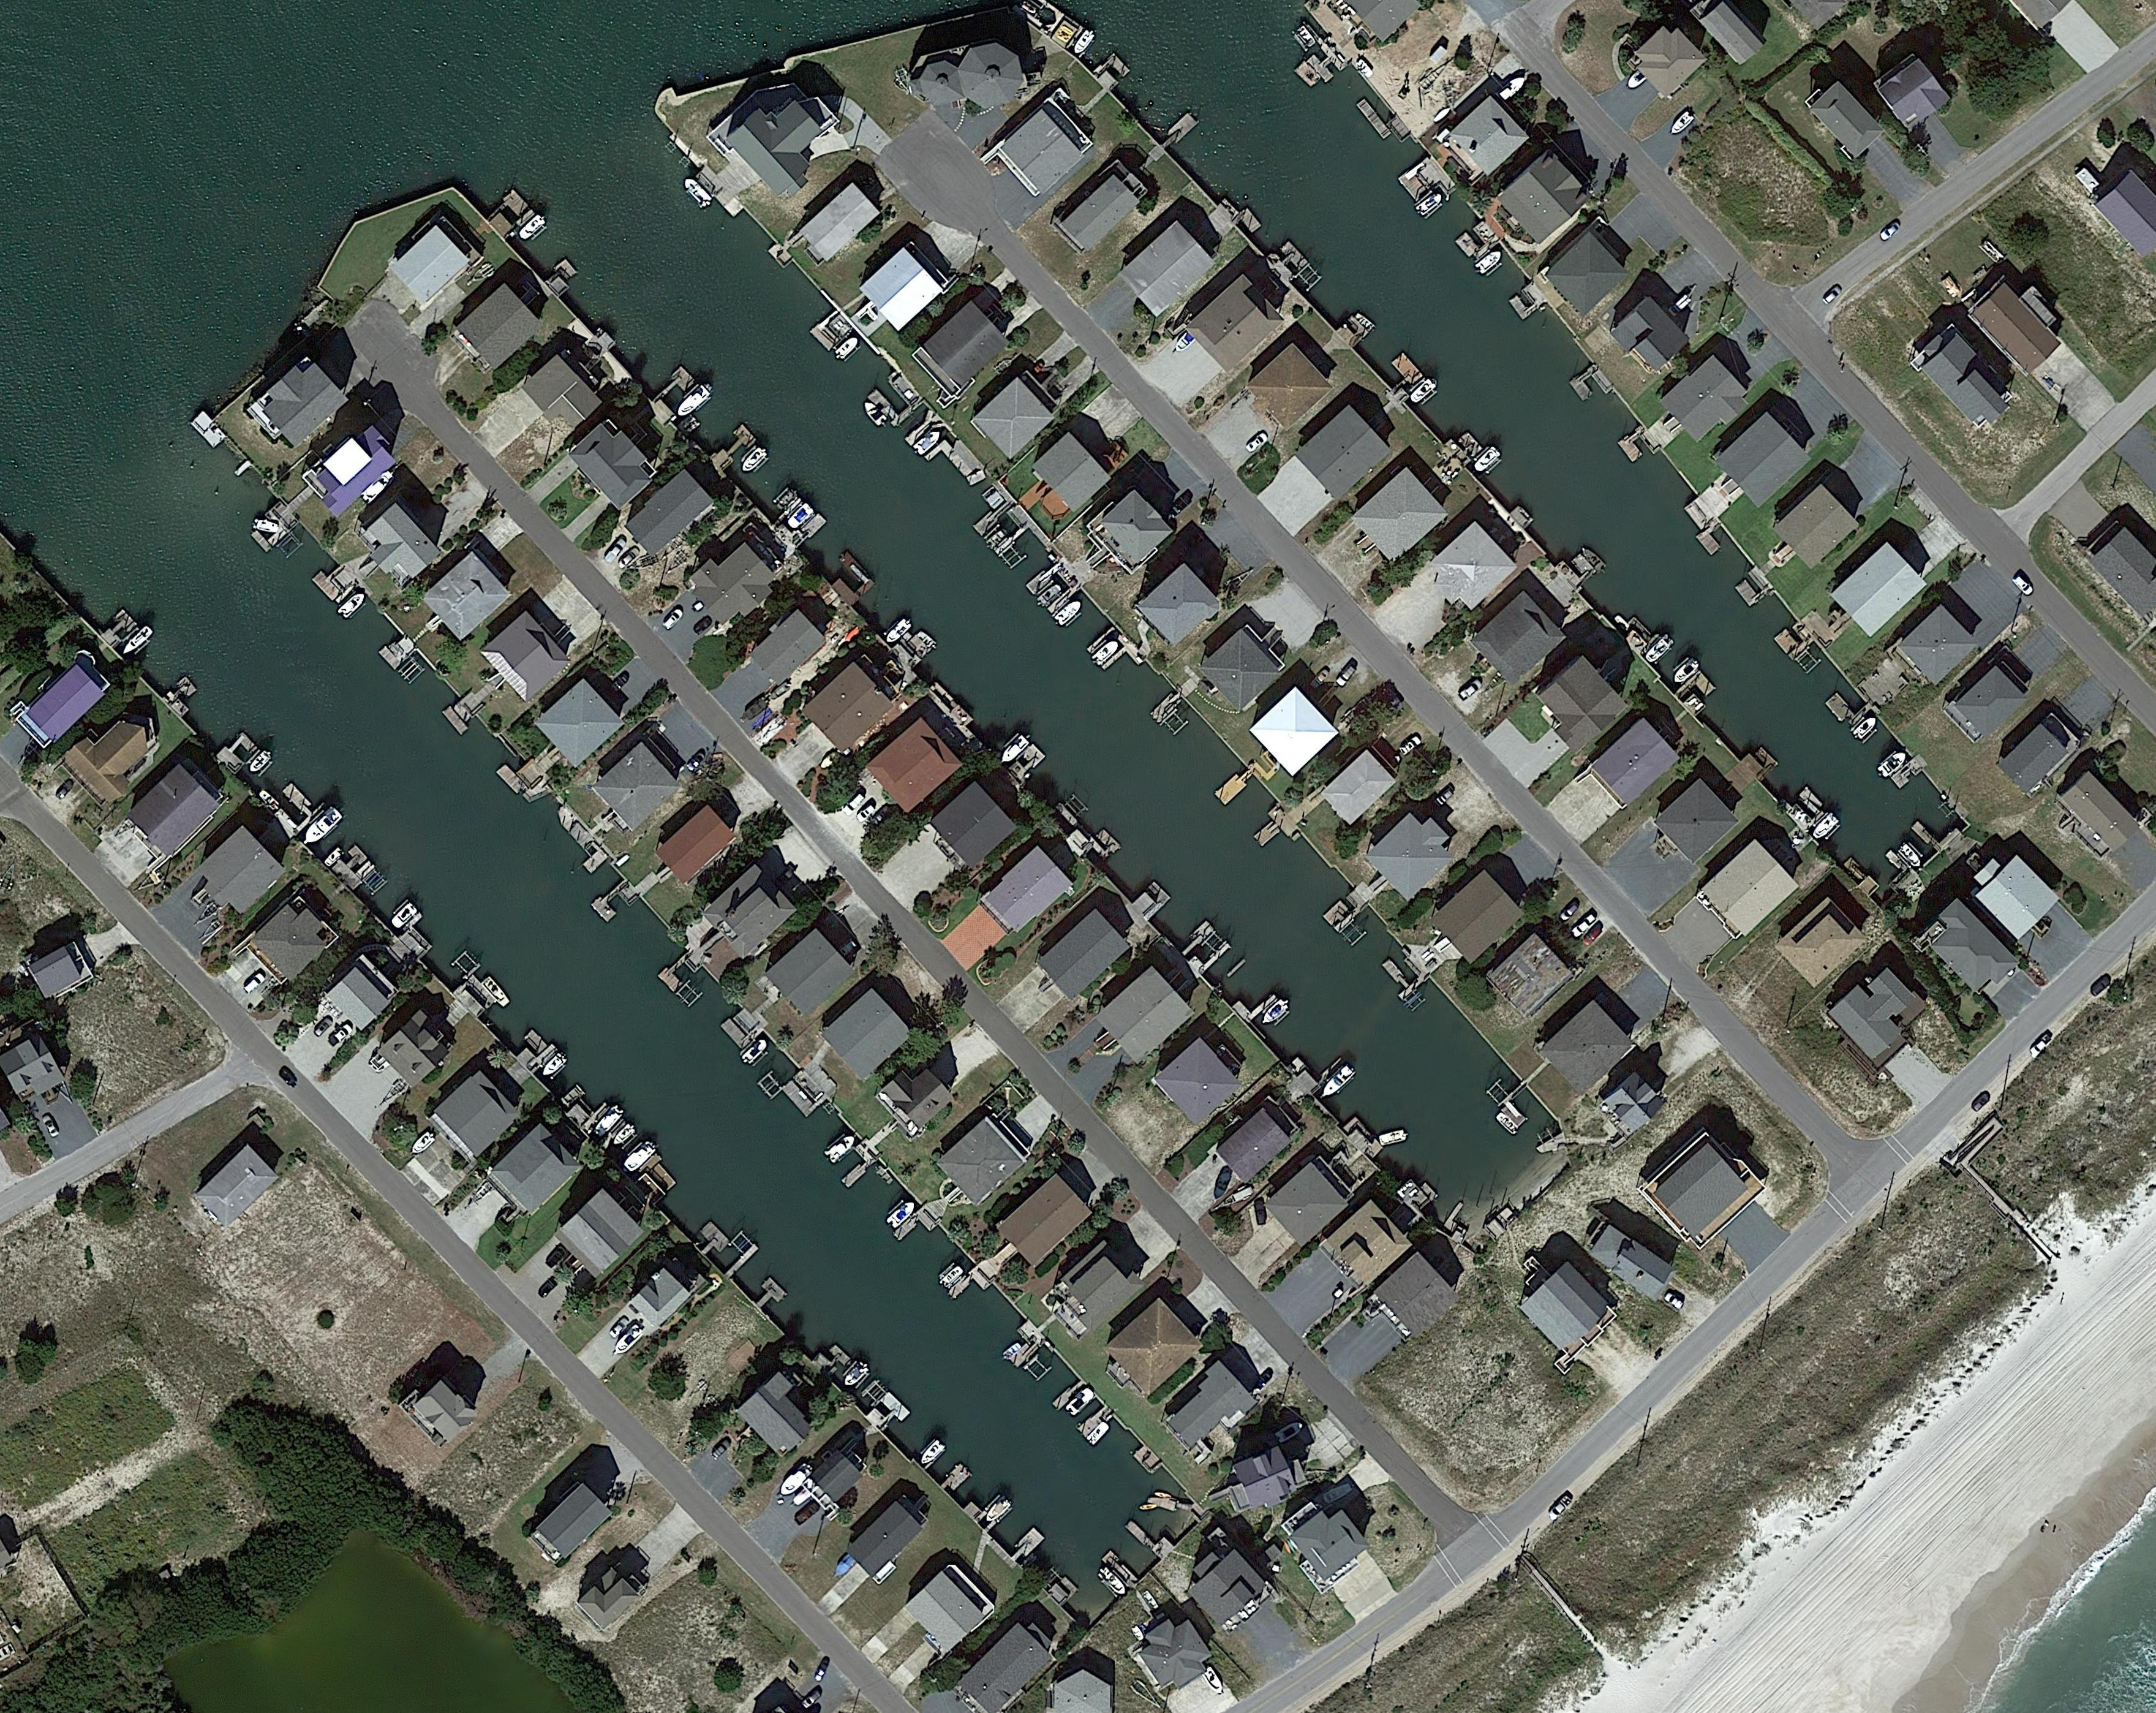harbor: (1087, 625, 1146, 684), (556, 1078, 612, 1132), (772, 495, 826, 549), (1176, 920, 1230, 975), (823, 551, 875, 607), (247, 500, 301, 553), (630, 1153, 681, 1206), (1125, 1512, 1176, 1563), (590, 875, 641, 926), (924, 439, 973, 490), (964, 1482, 1013, 1533), (996, 1319, 1047, 1368), (495, 752, 548, 800), (483, 189, 532, 238), (310, 560, 360, 607), (1321, 887, 1370, 934), (831, 1141, 880, 1188), (511, 1025, 558, 1074), (396, 913, 445, 961), (1825, 684, 1873, 731), (947, 1265, 994, 1312), (892, 1206, 940, 1253), (782, 1071, 829, 1118), (712, 423, 758, 471), (1232, 980, 1279, 1025), (809, 308, 854, 353), (1379, 353, 1425, 397), (721, 1006, 767, 1050), (658, 950, 704, 994), (655, 366, 698, 409), (866, 1393, 910, 1437), (1785, 787, 1829, 831), (98, 609, 142, 653), (894, 625, 936, 668), (1456, 222, 1500, 264), (1214, 766, 1258, 807), (1775, 621, 1817, 661), (1157, 112, 1199, 152), (691, 1221, 731, 1263), (1132, 882, 1172, 922), (1675, 670, 1717, 709), (1101, 1550, 1139, 1591), (1442, 1202, 1481, 1242), (1507, 282, 1547, 320), (973, 500, 1015, 537), (749, 1277, 788, 1316), (1092, 52, 1131, 91), (460, 971, 499, 1010), (378, 632, 417, 670), (901, 409, 941, 446), (1617, 425, 1657, 462), (1570, 366, 1610, 402), (1008, 1528, 1045, 1566), (1400, 1174, 1437, 1213), (1150, 689, 1186, 728), (1736, 570, 1775, 607), (866, 388, 903, 425), (1010, 744, 1047, 780), (443, 698, 480, 735), (1696, 521, 1734, 556), (1027, 562, 1064, 597), (725, 1242, 759, 1279), (282, 782, 317, 819), (1745, 747, 1780, 782), (543, 259, 578, 292), (1563, 555, 1598, 588), (1335, 315, 1368, 350), (1307, 49, 1340, 84), (1052, 1379, 1088, 1410), (1047, 1575, 1080, 1608), (1274, 241, 1307, 275), (1146, 1493, 1194, 1515), (940, 1463, 973, 1494), (1381, 959, 1412, 992), (1890, 758, 1923, 789), (1911, 821, 1943, 854), (1498, 1095, 1528, 1129), (228, 733, 261, 763), (1132, 1445, 1164, 1475), (1253, 819, 1283, 849), (824, 1344, 852, 1374), (1454, 432, 1484, 460), (1094, 828, 1120, 857), (768, 241, 794, 269), (170, 677, 198, 703), (1535, 1132, 1566, 1155), (341, 845, 367, 871), (1885, 849, 1907, 873)
ship: (296, 805, 345, 850), (775, 1461, 816, 1500), (357, 467, 396, 506), (1319, 1062, 1356, 1101), (674, 381, 712, 418), (592, 1102, 627, 1139), (679, 173, 714, 208), (621, 1139, 658, 1172), (611, 1323, 644, 1358), (823, 1132, 858, 1164), (884, 1199, 919, 1230), (1642, 633, 1677, 665), (1062, 1386, 1096, 1417), (336, 588, 369, 619), (121, 625, 154, 656), (998, 735, 1033, 765), (1258, 997, 1291, 1027), (1876, 749, 1909, 779), (984, 1494, 1013, 1526), (882, 618, 914, 647), (1474, 247, 1505, 276), (914, 425, 945, 455), (1053, 597, 1085, 626), (516, 213, 548, 243), (1809, 812, 1839, 842), (1472, 444, 1502, 474), (840, 1360, 870, 1389), (739, 446, 770, 474), (1090, 639, 1122, 667), (389, 903, 420, 931), (1494, 73, 1528, 100), (1626, 61, 1654, 91), (1668, 108, 1696, 138), (541, 1050, 569, 1080), (1274, 1419, 1306, 1445), (1200, 1666, 1227, 1697), (1850, 714, 1881, 740), (1414, 189, 1445, 215), (861, 399, 887, 429), (919, 1438, 945, 1468), (1671, 658, 1699, 684), (833, 334, 861, 360), (1174, 327, 1200, 355), (1409, 378, 1437, 404), (609, 1122, 637, 1148), (409, 1130, 438, 1157), (1071, 28, 1096, 58), (1321, 1482, 1355, 1503), (1087, 1419, 1111, 1447), (1897, 842, 1922, 870), (1494, 1111, 1521, 1136), (940, 1265, 966, 1290), (1038, 583, 1064, 607), (247, 751, 273, 775), (1379, 1129, 1409, 1148), (257, 789, 282, 812), (322, 847, 345, 870), (1297, 24, 1318, 49), (254, 518, 282, 535), (1355, 58, 1376, 80), (1355, 310, 1376, 332), (1001, 1342, 1022, 1360), (1131, 1624, 1145, 1641)
